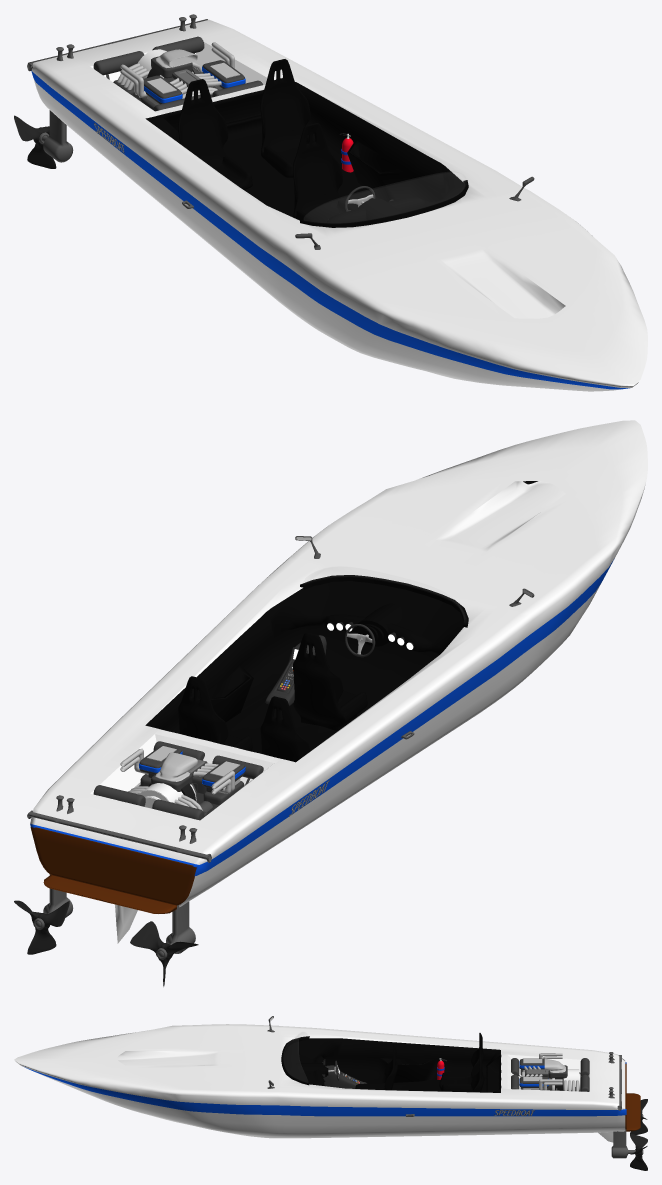
File: speedboat_n2.glb
3 renders of one model, top to bottom at view 1: azimuth 30°, elevation 25°; view 2: azimuth 150°, elevation 25°; view 3: azimuth 270°, elevation 25°, orthographic. The views are drawn at different scales.
Parts seen in each view (by area): view 1: pCube1, pasted__pCube7, pasted__pCube6, pasted__pCylinder2, pCylinder4, pCube2, pasted__pCylinder1, pCube13, pCube14, pCube16, pasted__pCylinder6, pCylinder11; view 2: pCube1, pasted__pCube7, pasted__pCube6, pasted__pCylinder2, pasted__pCylinder1, pCube2, pCylinder4, pasted__pCylinder6, pasted__pasted__pCube21, pCube16; view 3: pCube1, pasted__pCube7, pasted__pCylinder2, pasted__pCylinder1, pasted__pCube6, pasted__pasted__pCube21, pCylinder4, pCube2, pCube13, pCylinder11, pasted__pCylinder6, pCube16.
Boxes of the visible parts, x1,y1,x2,y2 form: pCube1: (31,19,647,391); pasted__pCube7: (178,59,333,189); pasted__pCube6: (293,122,355,222); pasted__pCylinder2: (27,14,207,208); pCylinder4: (93,36,204,79); pCube2: (300,180,468,227); pasted__pCylinder1: (14,115,56,168); pCube13: (143,60,244,104); pCube14: (147,62,240,105); pCube16: (155,49,197,68); pasted__pCylinder6: (357,198,401,219); pCylinder11: (153,80,262,111); pCube1: (30,420,647,943); pasted__pCube7: (178,676,310,762); pasted__pCube6: (293,632,367,731); pasted__pCylinder2: (27,731,414,959); pasted__pCylinder1: (14,900,198,986); pCube2: (300,575,468,627); pCylinder4: (93,785,204,820); pasted__pCylinder6: (355,603,402,646); pasted__pasted__pCube21: (265,635,412,705); pCube16: (155,752,197,781); pCube1: (14,1024,640,1142); pasted__pCube7: (439,1033,484,1092); pasted__pCylinder2: (405,1052,643,1158); pasted__pCylinder1: (630,1099,647,1170); pasted__pCube6: (355,1044,397,1090); pasted__pasted__pCube21: (325,1065,366,1088); pCylinder4: (580,1058,589,1091); pCube2: (281,1036,309,1085); pCube13: (520,1058,548,1087); pCylinder11: (511,1058,520,1089); pasted__pCylinder6: (295,1063,324,1074); pCube16: (544,1058,565,1072).
Bounding box in the file's own units: 3.54 × 2.44 × 13.25.
Materials: 43 (2 with a texture image).
